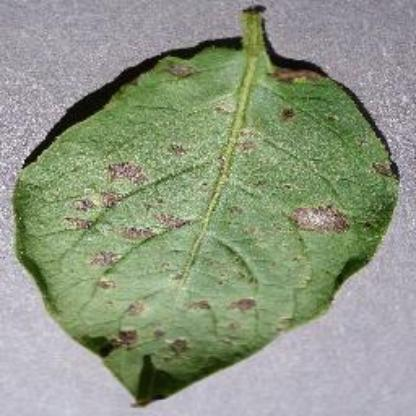Early-Blight: (13, 6, 408, 406)
